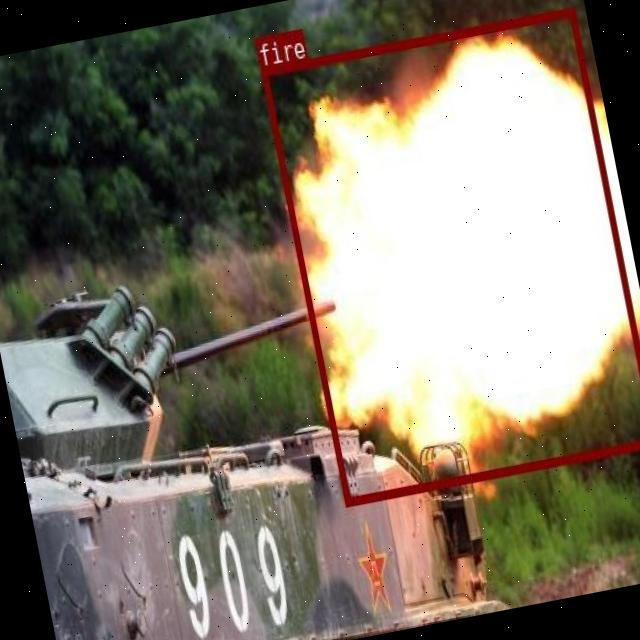fire: (260, 6, 640, 506)
